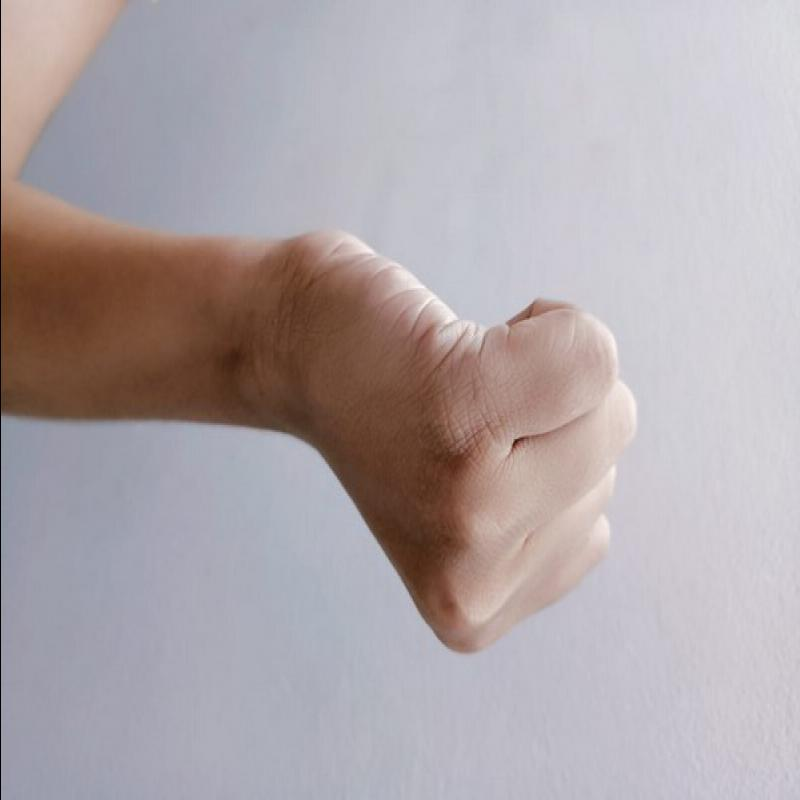Mushti: (248, 215, 668, 677)
